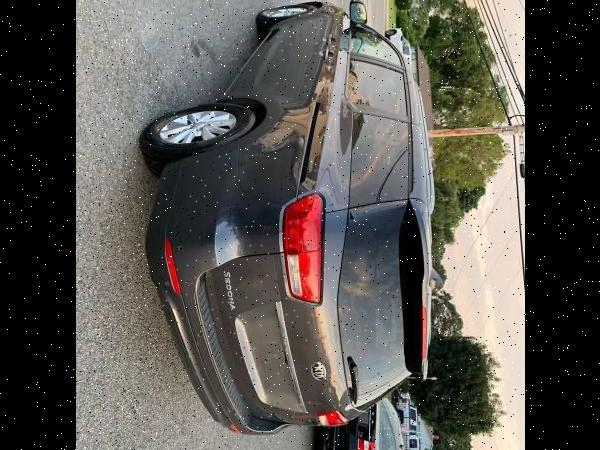Front_Left_Door: (255, 12, 350, 52)
Front_Left_Window: (348, 21, 401, 70)
Left_Taillight: (283, 195, 324, 308)
Rear_Bumper: (150, 141, 299, 437)
Rear_Fender: (222, 92, 412, 211)
Rear_Left_Door: (228, 47, 349, 109)
Rear_Left_Window: (344, 56, 408, 123)
Rear_Windshield: (334, 202, 421, 410)
Right_Taillight: (322, 411, 354, 428)
Roof: (388, 38, 431, 375)
Tailgate: (208, 210, 363, 426)
Wheel: (142, 105, 256, 181), (258, 3, 312, 21)
